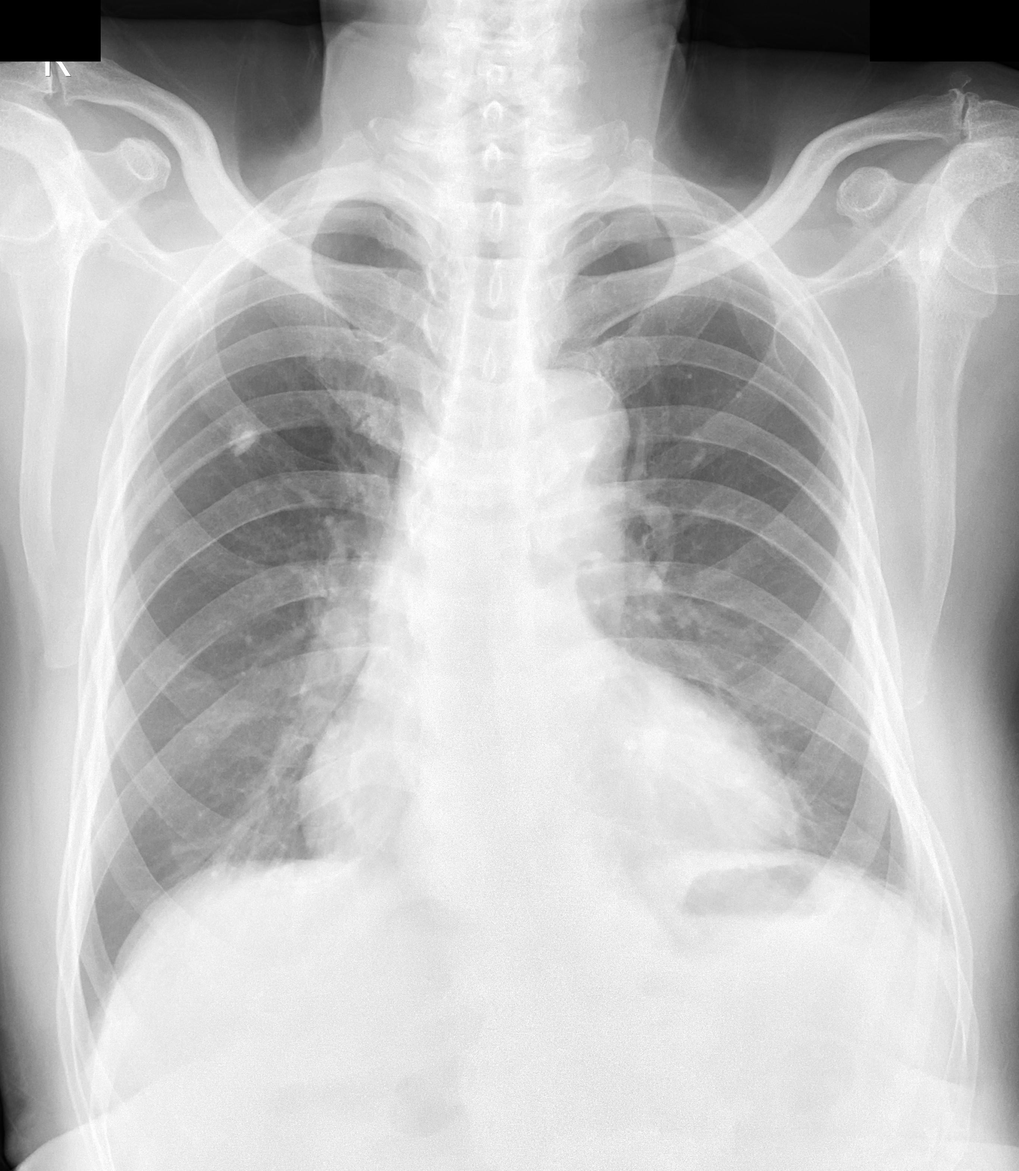Aortic enlargement: (503, 366, 632, 518)
Cardiomegaly: (298, 750, 808, 878)
